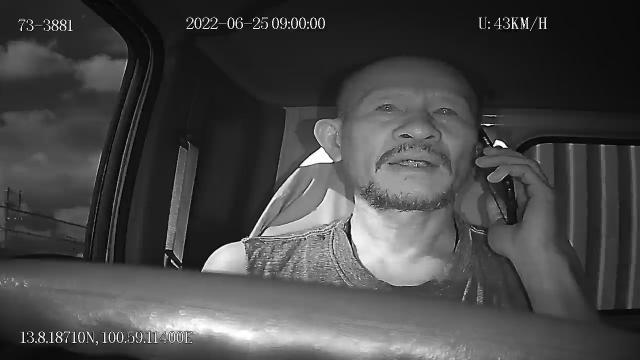PhoneUse: (474, 126, 520, 226)
SafeDriving: (424, 96, 464, 127), (368, 92, 407, 120)
